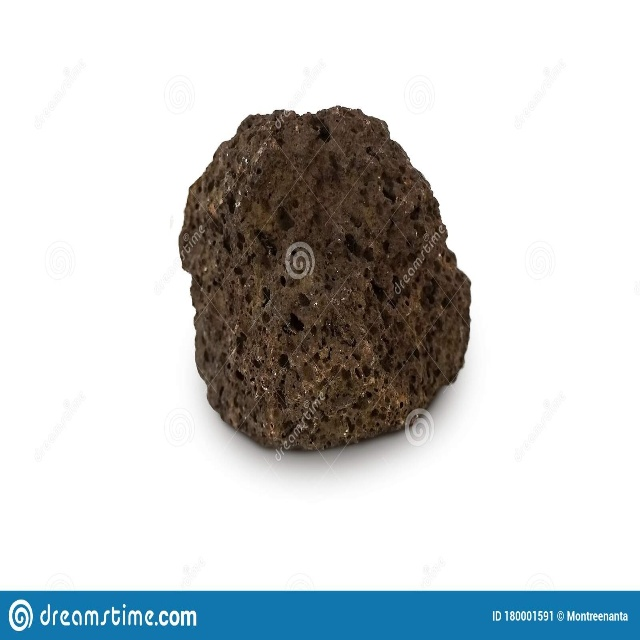obstacle: (179, 107, 470, 449)
